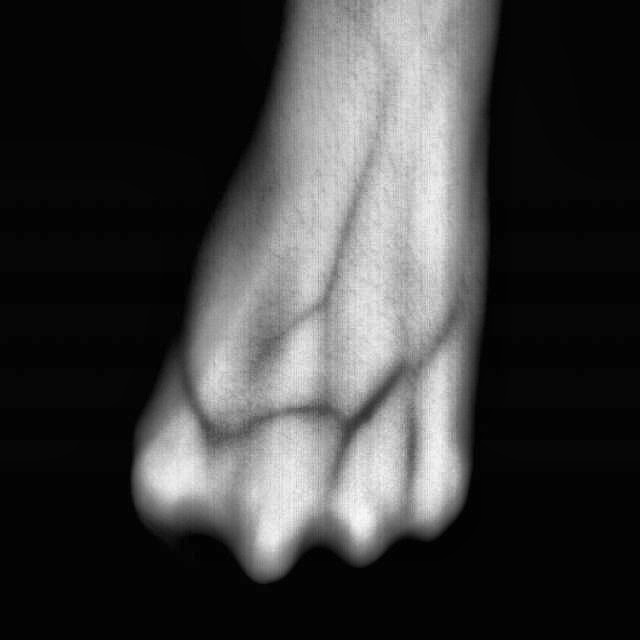Vein: (186, 360, 406, 437)
